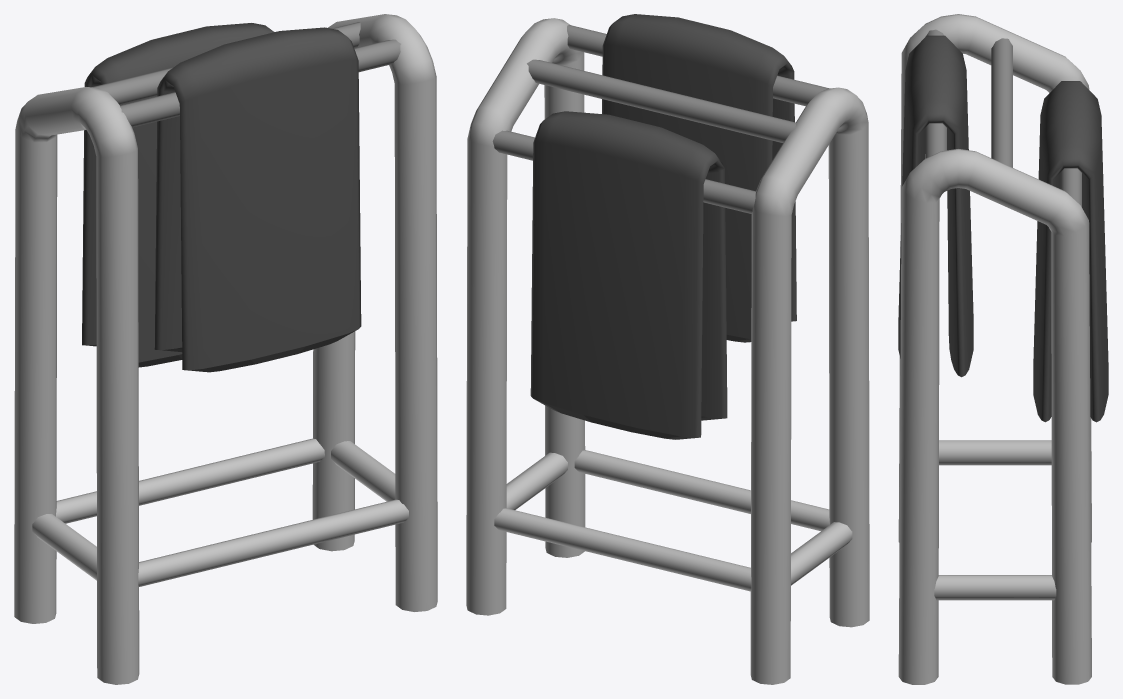
Rendered from TowelRackModel.fbx.
3 views of the same model, side by side, from view 1: azimuth 30°, elevation 25°; view 2: azimuth 150°, elevation 25°; view 3: azimuth 270°, elevation 25° (orthographic). The views are drawn at different scales.
Parts seen in each view (by area): view 1: TowelRackModel; view 2: TowelRackModel; view 3: TowelRackModel.
Part boxes in pixels (<box>): TowelRackModel: <box>14,14,437,684</box>; TowelRackModel: <box>466,14,869,684</box>; TowelRackModel: <box>898,14,1108,684</box>.
Bounding box in the file's own units: 80.56 × 136 × 47.49.
